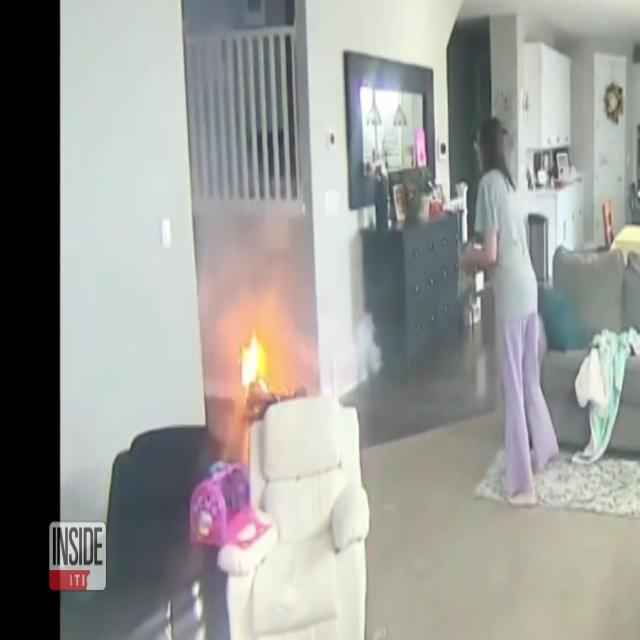fire: (241, 327, 267, 386)
